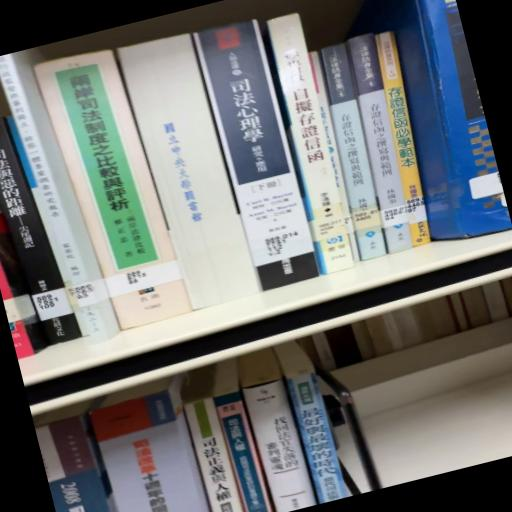backward: (118, 35, 261, 311)
book: (365, 1, 512, 254), (35, 45, 175, 281), (261, 12, 368, 278), (1, 115, 82, 361), (232, 347, 319, 512), (274, 337, 353, 506), (183, 396, 248, 512)
